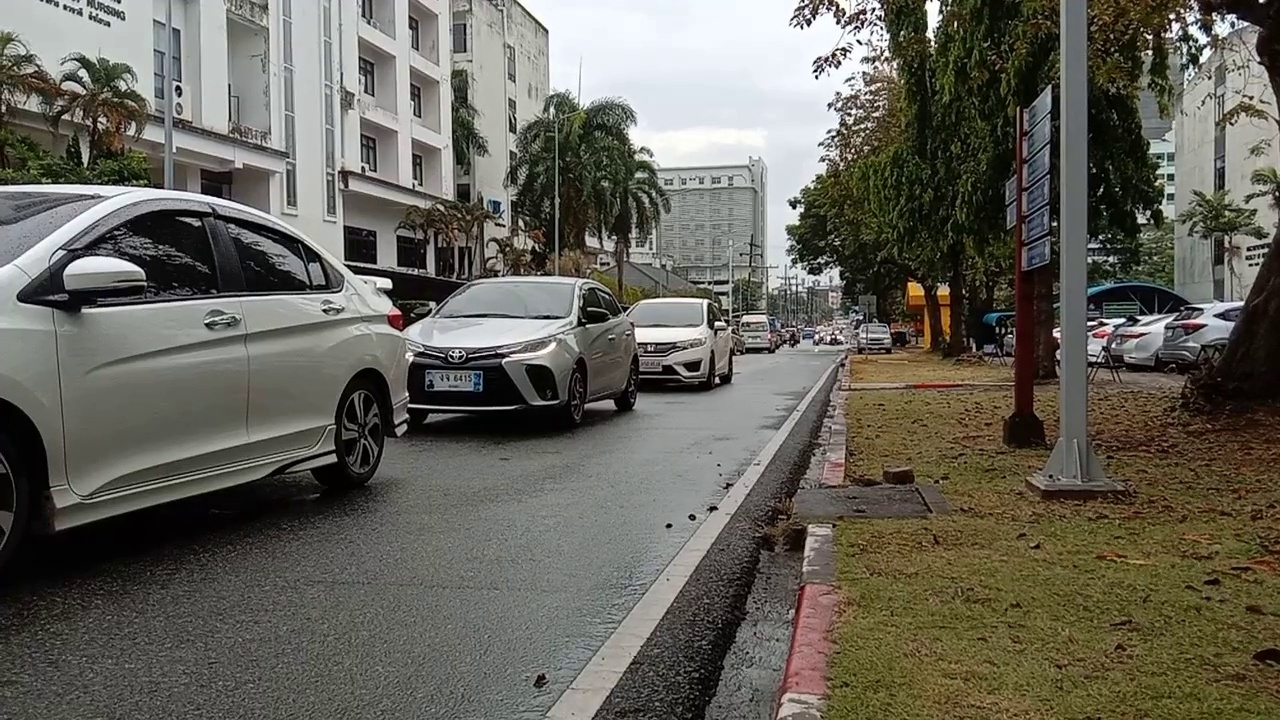License Plate: (421, 368, 480, 394)
